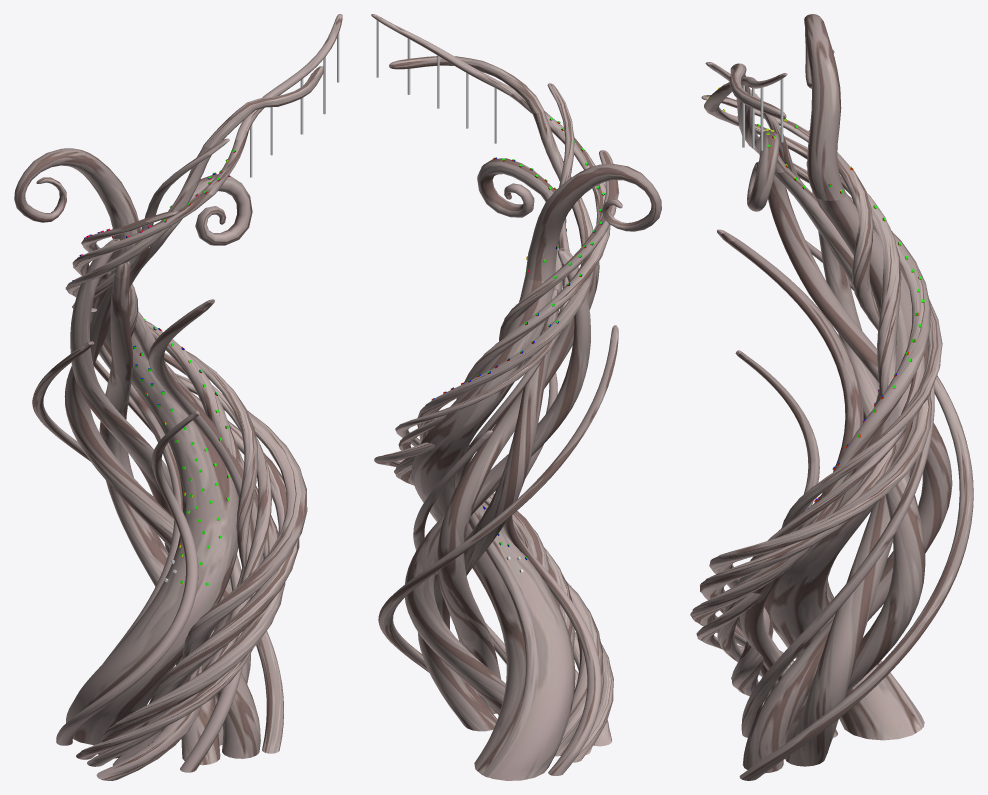
The model's file is beanstalk_box.FBX.
3 renders of one model, left to right at view 1: azimuth 30°, elevation 25°; view 2: azimuth 150°, elevation 25°; view 3: azimuth 270°, elevation 25°, orthographic. The views are drawn at different scales.
Visible parts, largest first — view 1: beanstalk; view 2: beanstalk; view 3: beanstalk.
Part boxes in pixels (box(x1,y1,x2,y2)): beanstalk: box(14, 14, 342, 780); beanstalk: box(371, 14, 661, 780); beanstalk: box(690, 14, 973, 780).
Size of the model in its own units: 122 by 260 by 89.36.
Materials: 7 (1 with a texture image).
